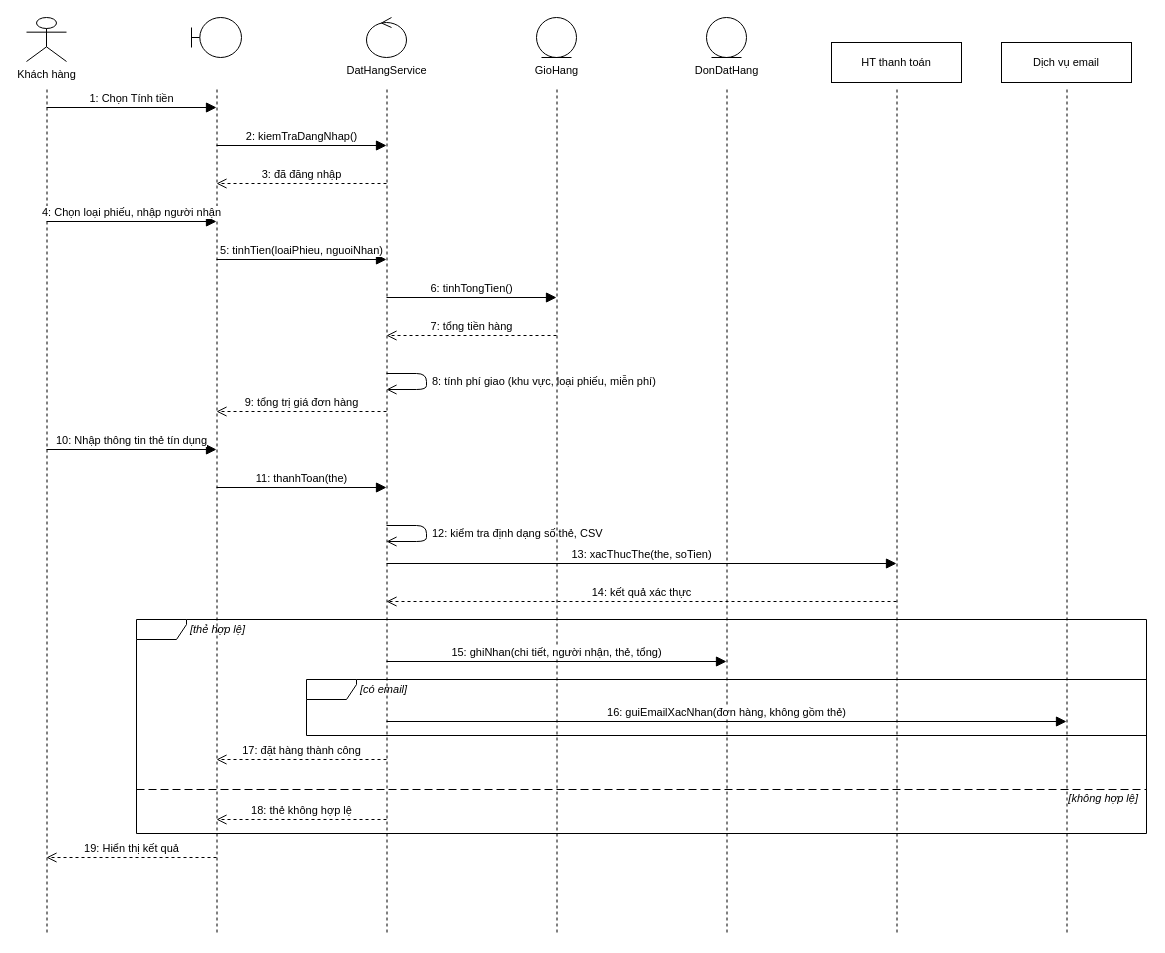
Some shapes in this 1165 by 953 pixel diagram are drawn without their labels. The shapes that lost their labels are listed below. From the top down, each one's box as (x1, y1, x2, y2) in pixels, then its label:
(190, 16, 242, 58): FrmThanhToan
(136, 618, 1146, 834): alt
(306, 678, 1146, 736): opt
